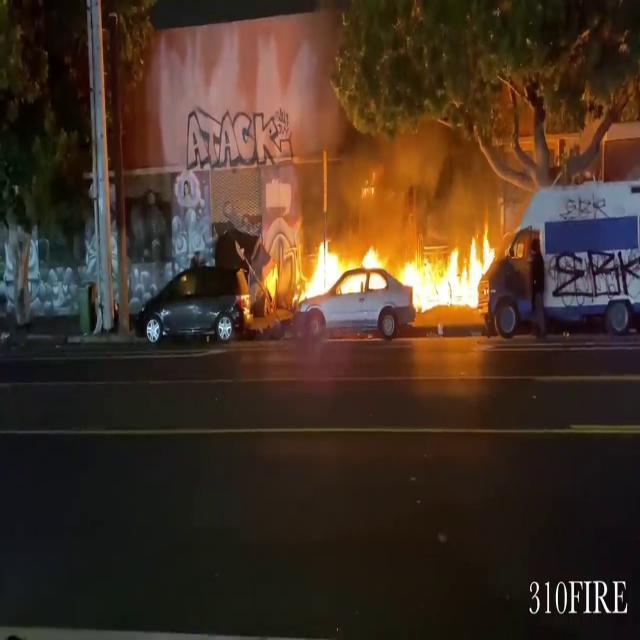Fire: (292, 224, 496, 318)
Smoke: (339, 102, 479, 232)
